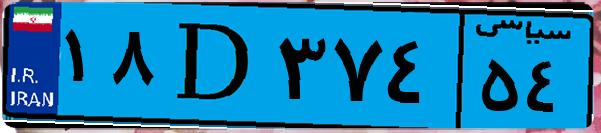1: (57, 26, 110, 100)
3: (270, 28, 330, 110)
4: (385, 28, 445, 110), (525, 38, 570, 115)
5: (475, 38, 525, 113)
7: (330, 28, 385, 110)
8: (110, 28, 158, 98)
D: (158, 12, 270, 120)
